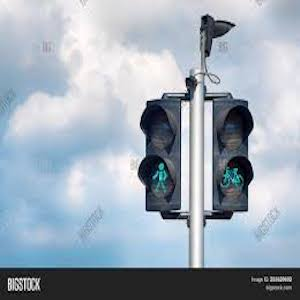green: (151, 158, 171, 201)
